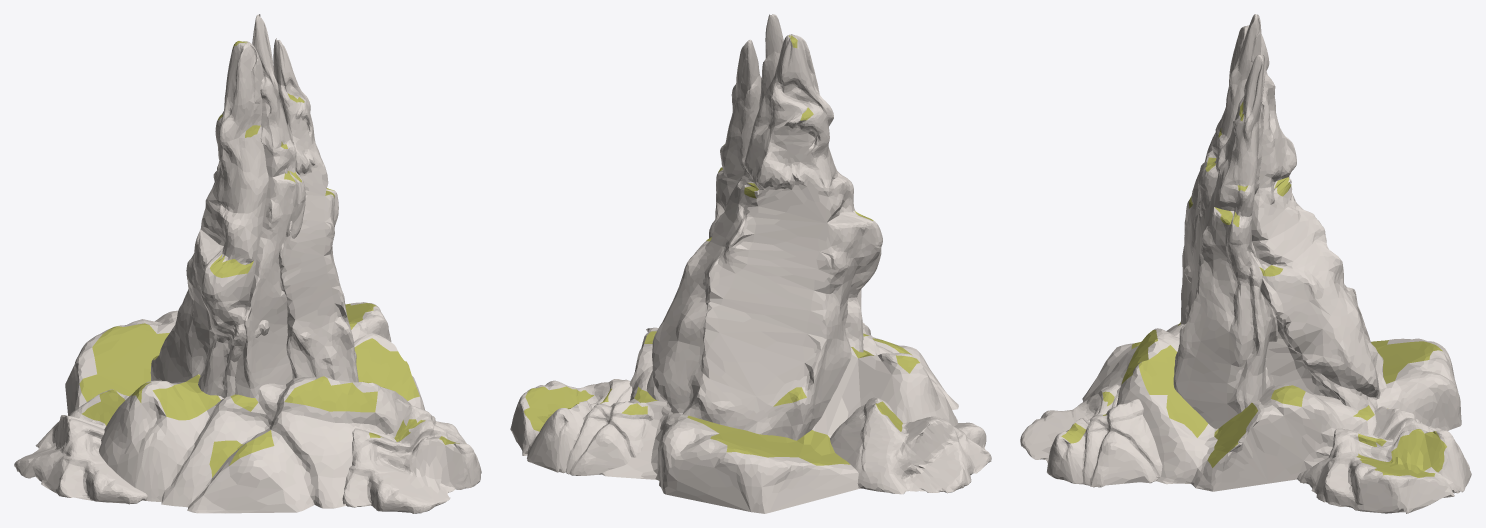
The model's file is rock_formation_LOD.fbx.
3 views of the same model, side by side, from view 1: azimuth 30°, elevation 25°; view 2: azimuth 150°, elevation 25°; view 3: azimuth 270°, elevation 25° (orthographic). The views are drawn at different scales.
Visible parts, largest first — view 1: rock_formation_LOD0; view 2: rock_formation_LOD0; view 3: rock_formation_LOD0.
Boxes of the visible parts, left/top/right/bottom form: rock_formation_LOD0: left=14, top=14, right=481, bottom=513; rock_formation_LOD0: left=510, top=14, right=991, bottom=513; rock_formation_LOD0: left=1020, top=14, right=1471, bottom=513.
Size of what is drawn, in the model's own units: 5485 by 5318 by 5331.
